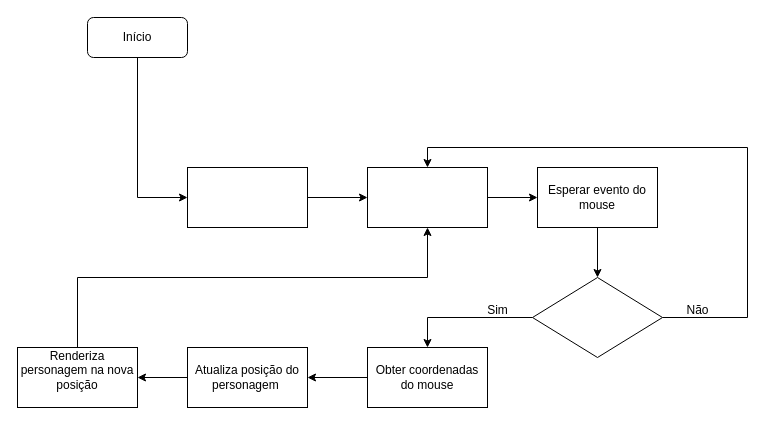
The diagram is 773 pixels wide and 425 high, and some of its shapes have lost their labels. Each missing label, with the centre of its shape:
"Abrir dispositivo do mouse" belongs at pixel 247 197.
"Loop principal do jogo" belongs at pixel 427 197.
"Movimento detectado?" belongs at pixel 597 317.
